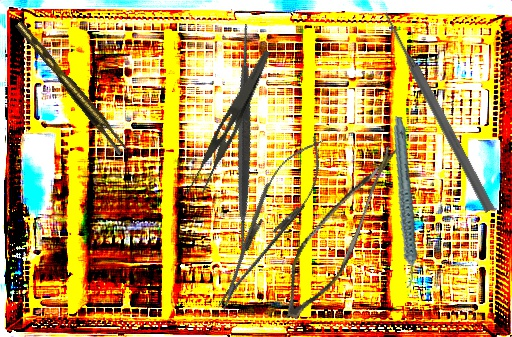Dressing Forceps: (183, 42, 272, 204)
Handpiece: (367, 116, 439, 289)
Micro Scissor: (275, 126, 400, 332)
Needle Holder: (200, 127, 338, 320)
Pusher: (378, 9, 498, 214)
Spatula Surgical: (114, 13, 373, 272)
Tissue Forceps: (14, 15, 129, 159)
